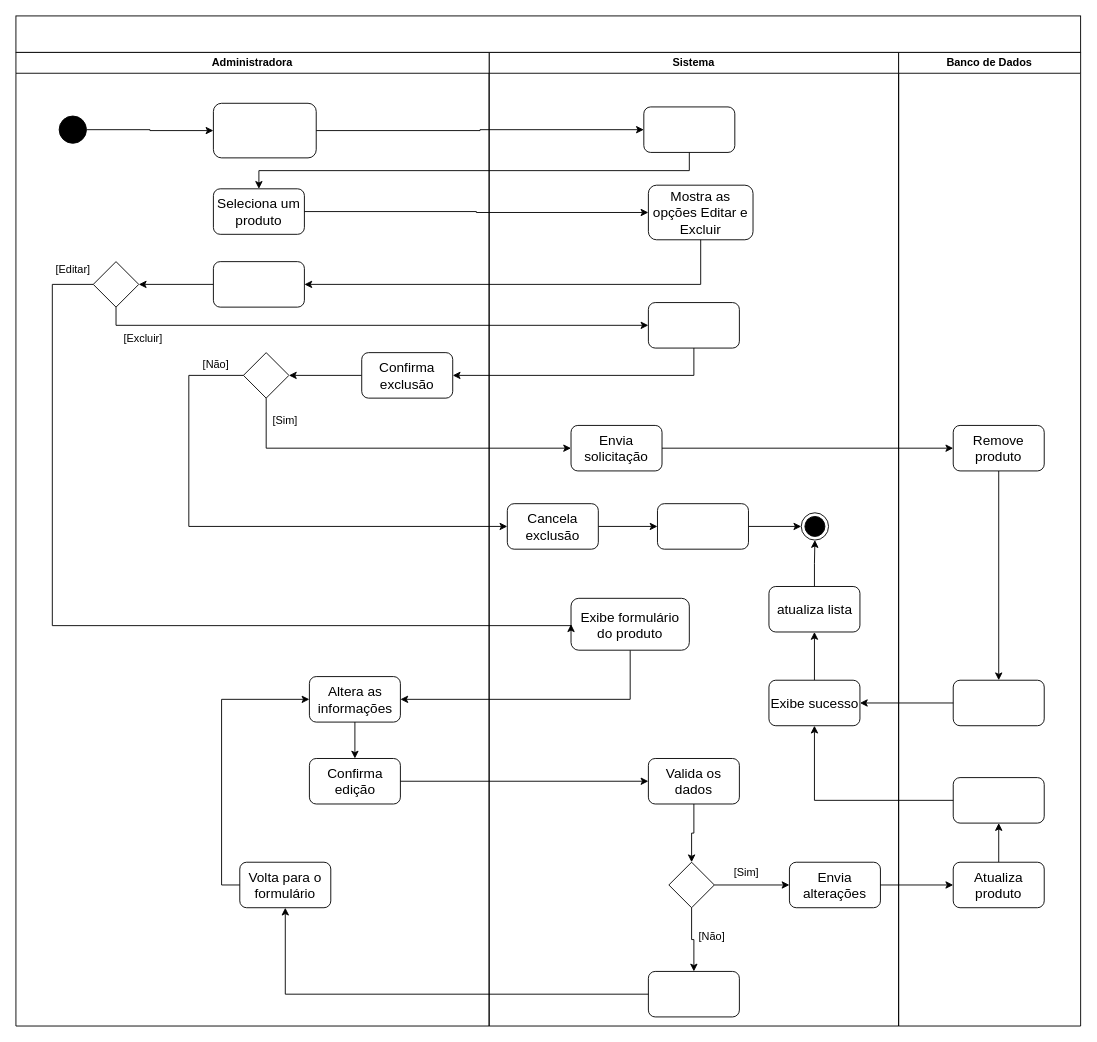
Some shapes in this 1097 by 1042 pixel diagram are drawn without their labels. The centre of each missing label's shape, as x and y in pixels:
Acessar painel de controle: the point at 264,130
Confirma atualização: the point at 998,800
Confirma remoção: the point at 998,702
Diagrama de Atividade: Manter Catálogo: the point at 548,33
Escolhe uma das opções: the point at 258,284
Exibe erro: the point at 693,994
Exibe lista de produto: the point at 689,129
Pede confirmação: the point at 693,325
Volta para a lista: the point at 702,526
